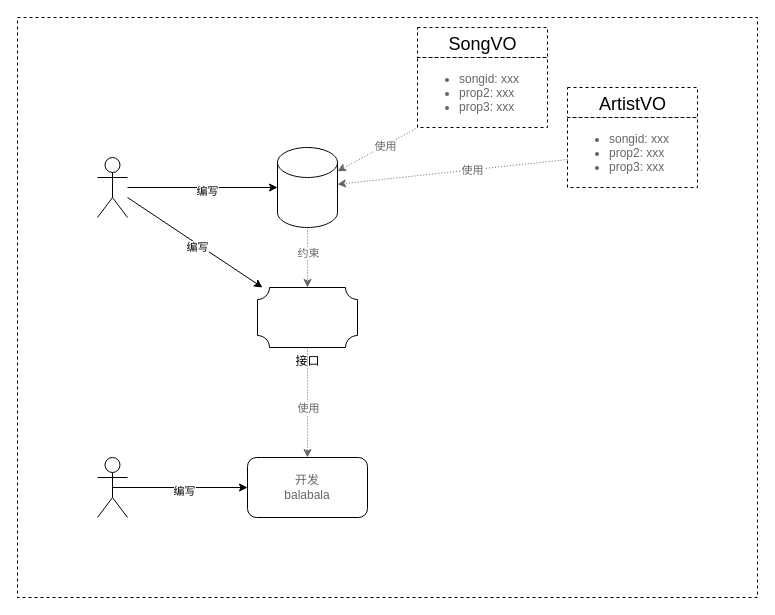
The diagram is 775 pixels wide and 615 high, and some of its shapes have lost their labels. Each missing label, with the box of its shape:
NEI数据结构: (276, 146, 338, 228)
客户端开发人员: (96, 456, 128, 518)
服务端开发人员: (96, 156, 128, 218)
